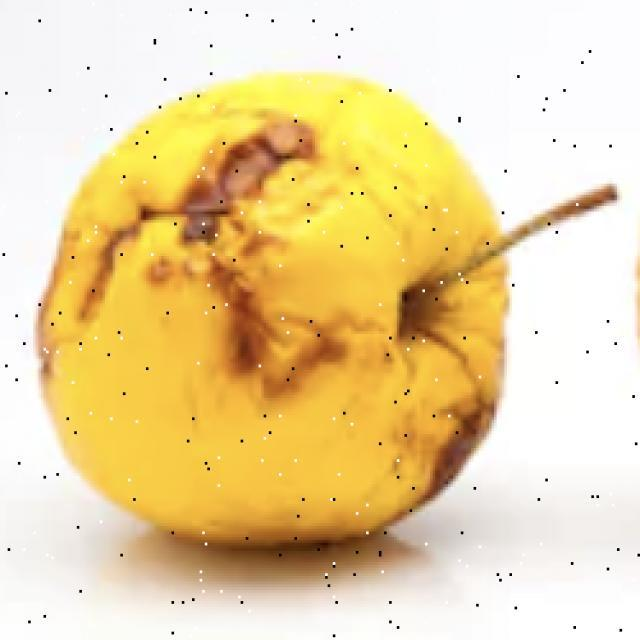Rotten: (62, 79, 518, 564)
